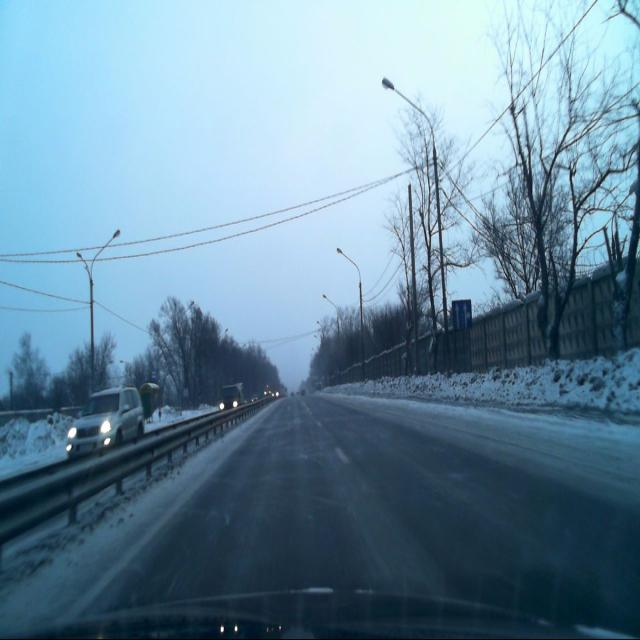road sign: (452, 299, 472, 329)
